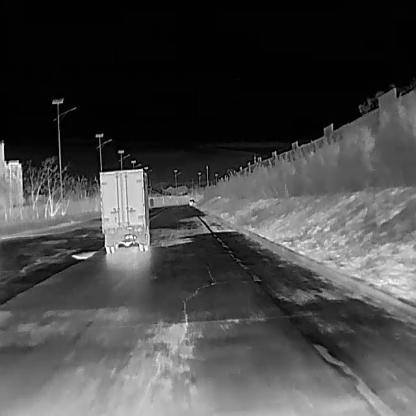car: (98, 167, 152, 252), (188, 197, 194, 205)
